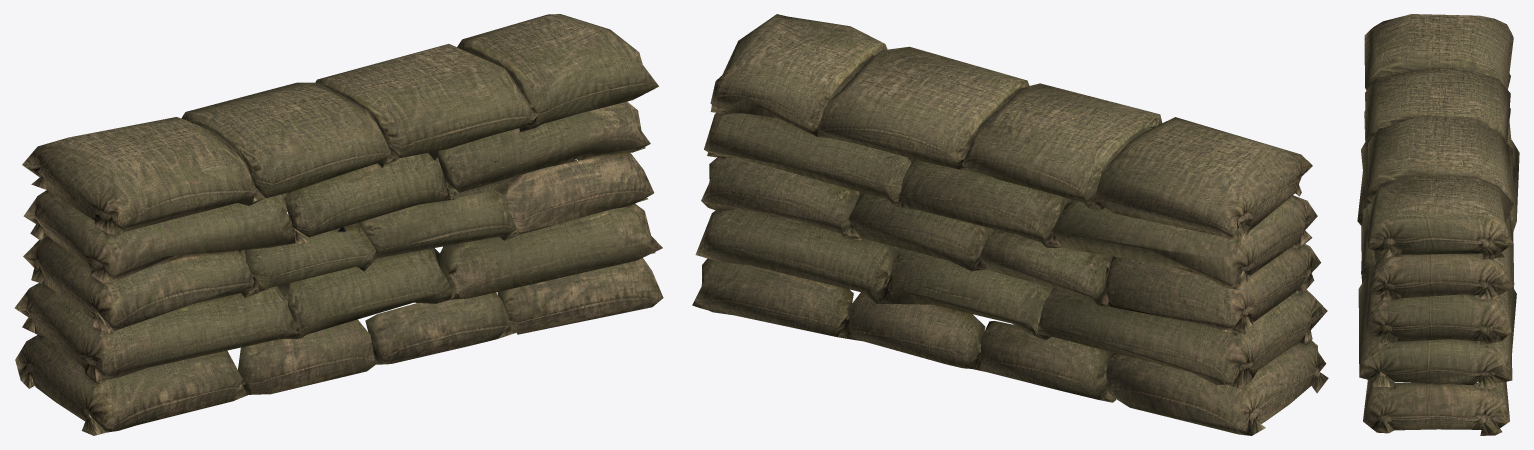
The model's file is sandbag_stack_3d_model.fbx.
3 renders of one model, left to right at view 1: azimuth 30°, elevation 25°; view 2: azimuth 150°, elevation 25°; view 3: azimuth 270°, elevation 25°, orthographic. The views are drawn at different scales.
Parts seen in each view (by area): view 1: tripo_node_6b16b474; view 2: tripo_node_6b16b474; view 3: tripo_node_6b16b474.
Part boxes in pixels (box(x1,y1,x2,y2)): tripo_node_6b16b474: box(14, 14, 663, 435); tripo_node_6b16b474: box(692, 14, 1328, 435); tripo_node_6b16b474: box(1357, 14, 1519, 435).
Size of the model in its own units: 0.9995 by 0.4409 by 0.2964.
